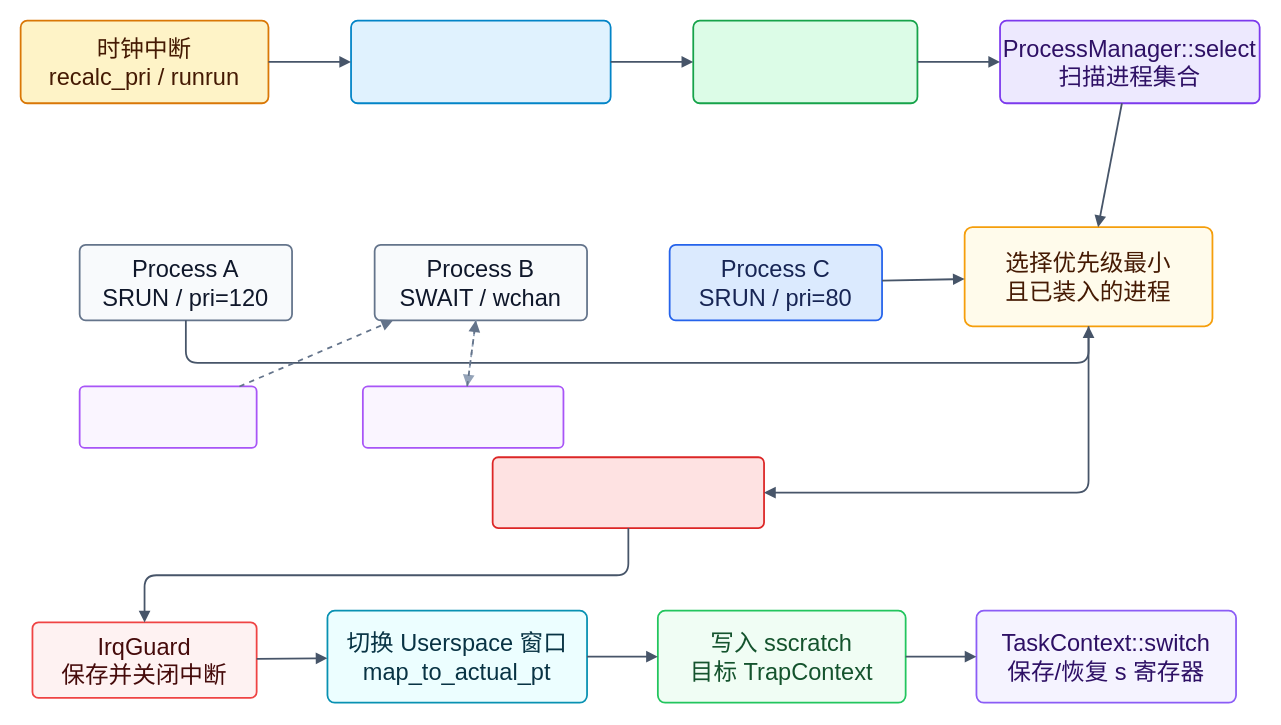
Image size: 1281x725. Some labels were removed from this diagram. Here are the shapes that lost their labels. From the top down, the centre of each, then its label:
At point 480,61: "用户态返回边界 schedule_on_user_return".
At point 805,61: "0 号进程 调度器循环".
At point 167,416: "sleep(chan)".
At point 462,416: "wakeup_all(chan)".
At point 627,492: "switch_to(current, next)".
